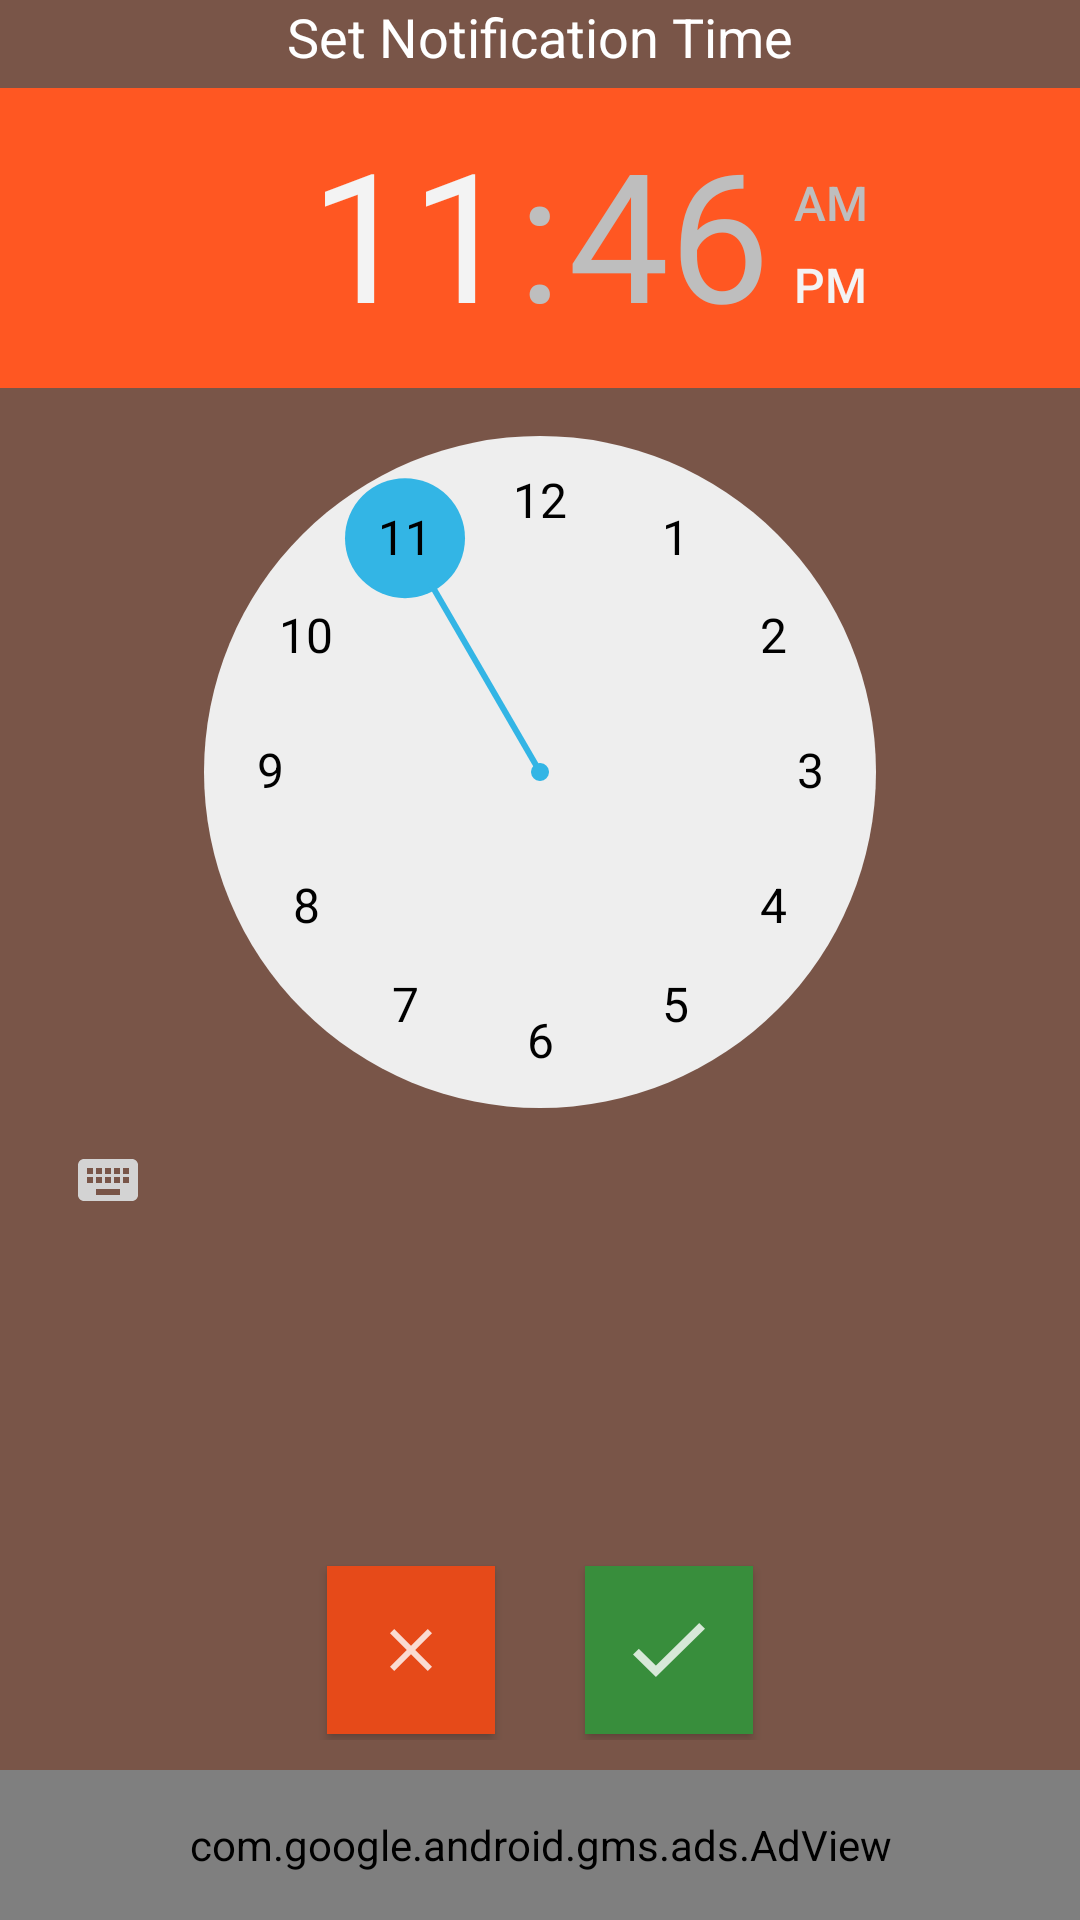

Where icons sit on this 1080×1920 app screen, as detection(x1, y1, x2, y2):
cancel: detection(327, 1566, 495, 1734)
done: detection(585, 1566, 753, 1734)
